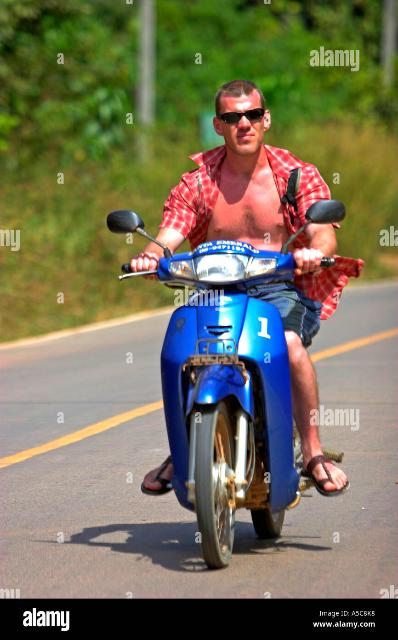motor: (106, 191, 355, 569)
non-helm: (215, 81, 273, 157)
